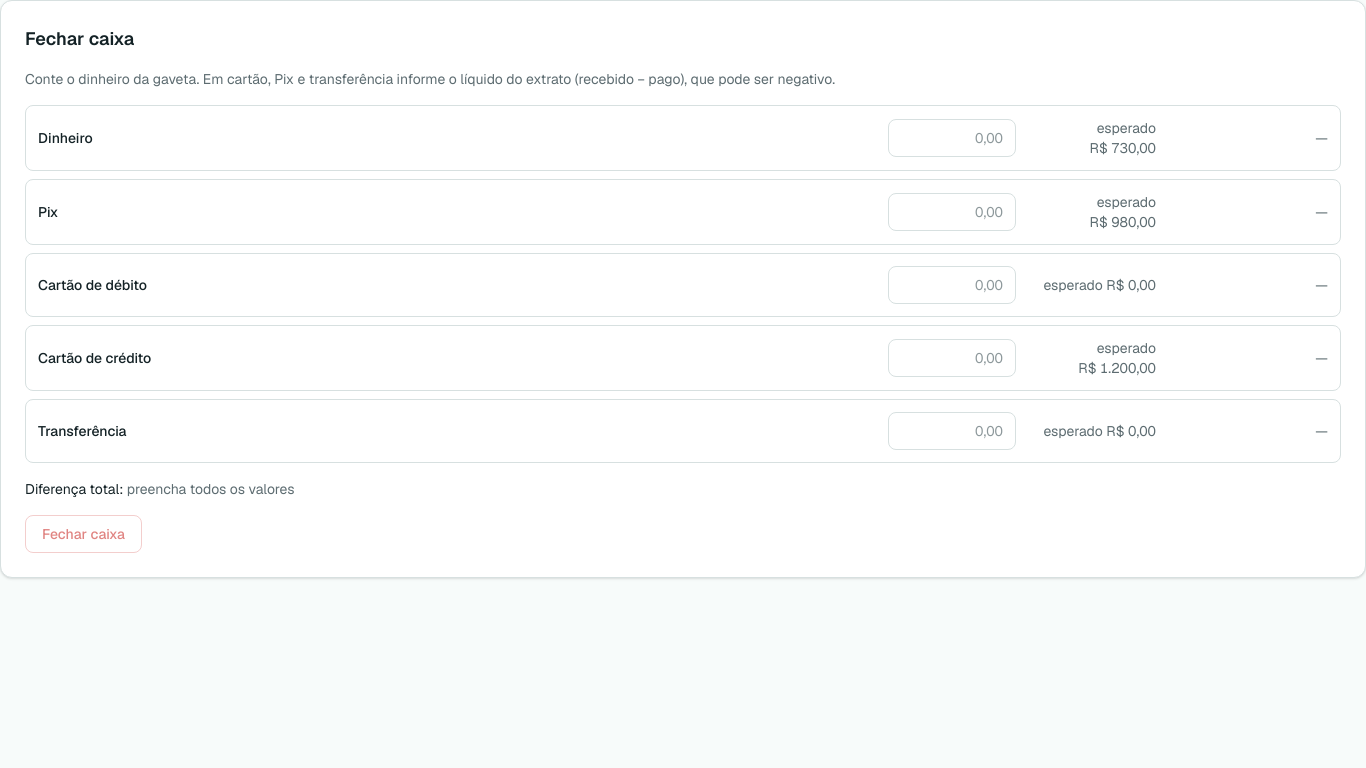
CaixaFechamento › só habilita o fechamento com todos os valores contados
This screenshot has width=1366, height=768.
Check: the button "Fechar caixa" is disabled, box top-left (25, 515), bottom-right (142, 553)
Type "730" into the field labelled "Dinheiro" at (952, 138), box top-left (888, 119), bottom-right (1016, 157)
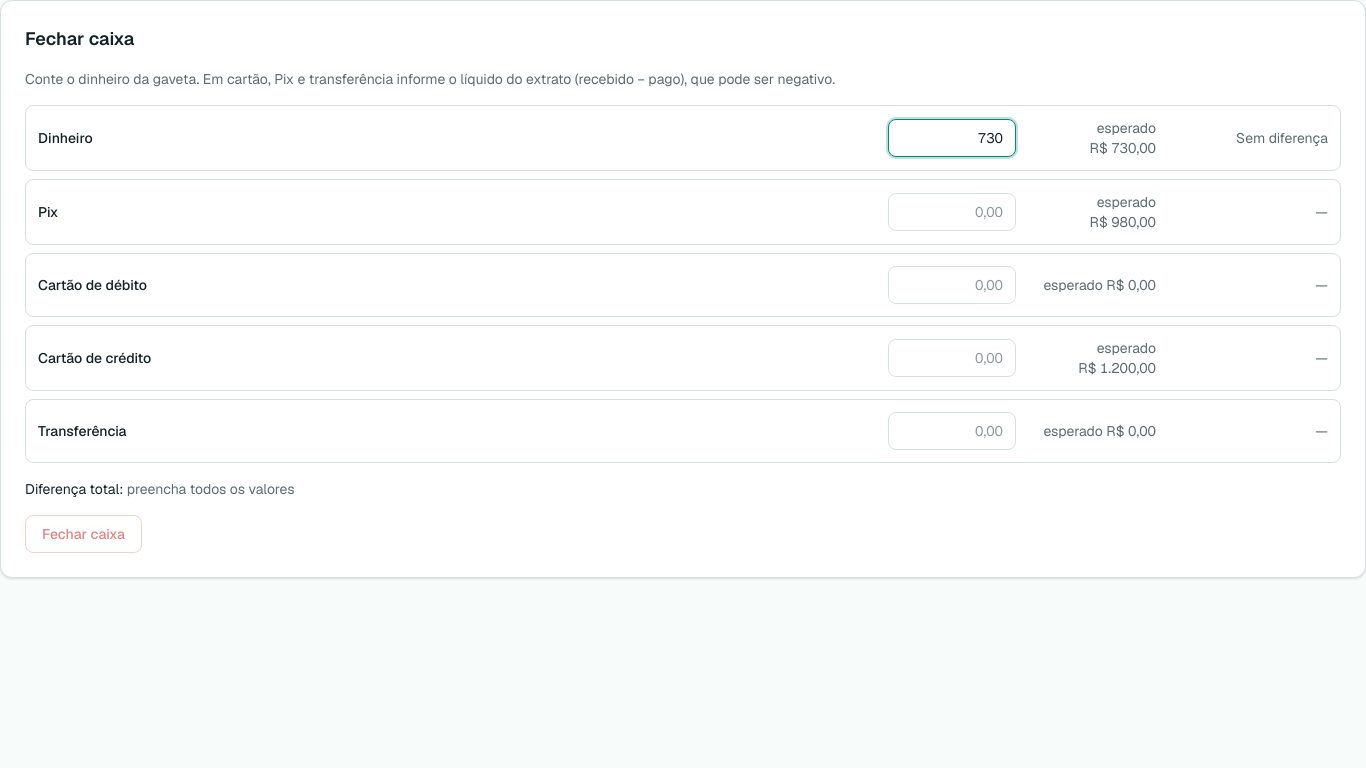
Type "1200" into the field labelled "Cartão de crédito" at (952, 358), box top-left (888, 339), bottom-right (1016, 377)
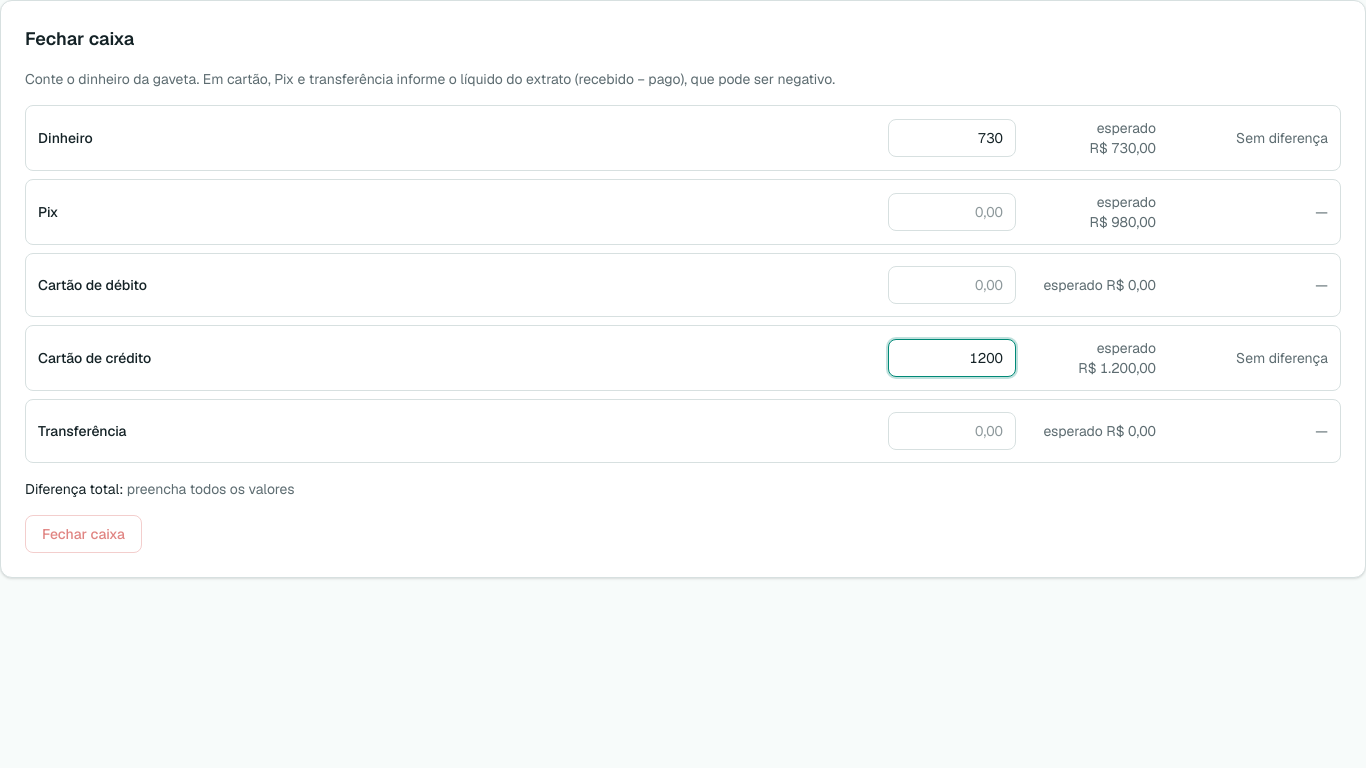
Type "0" into the field labelled "Cartão de débito" at (952, 285), box top-left (888, 266), bottom-right (1016, 304)
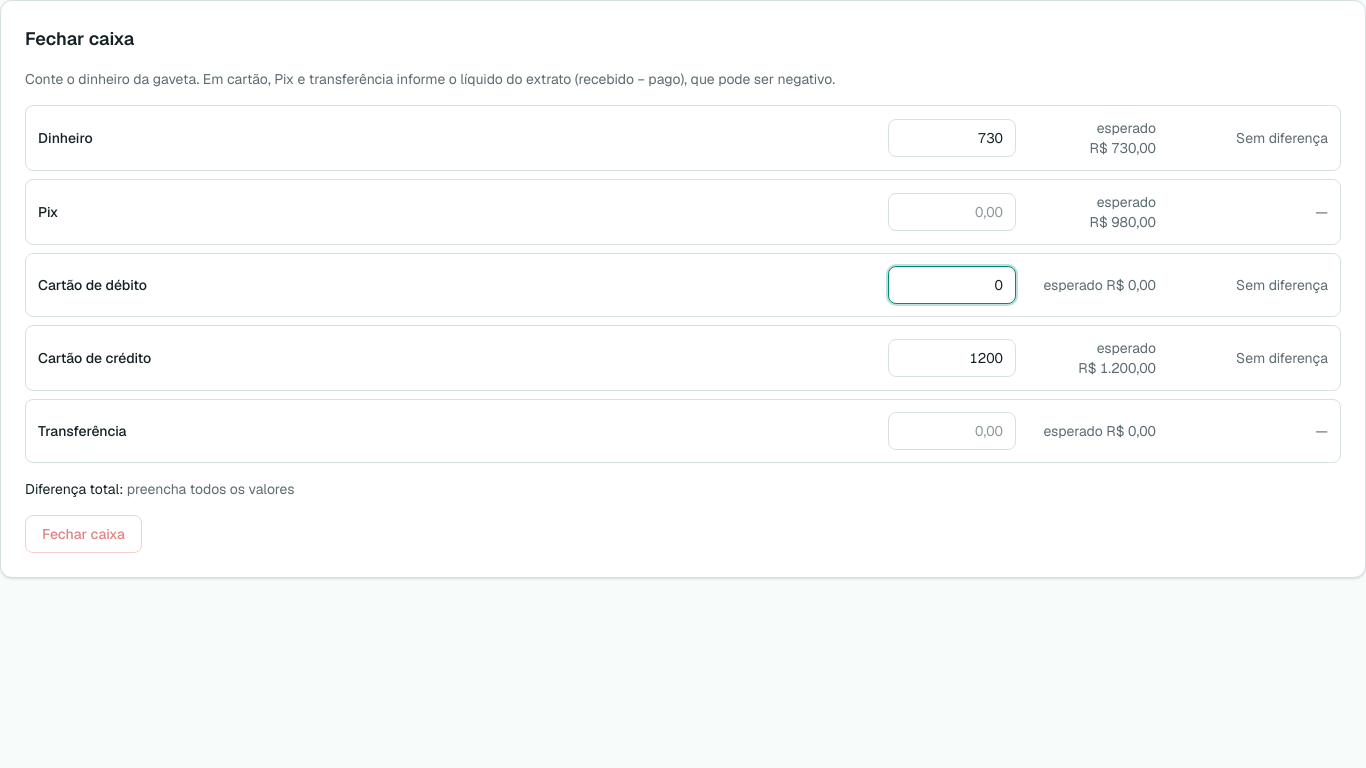
Type "980" into the field labelled "Pix" at (952, 212), box top-left (888, 193), bottom-right (1016, 231)
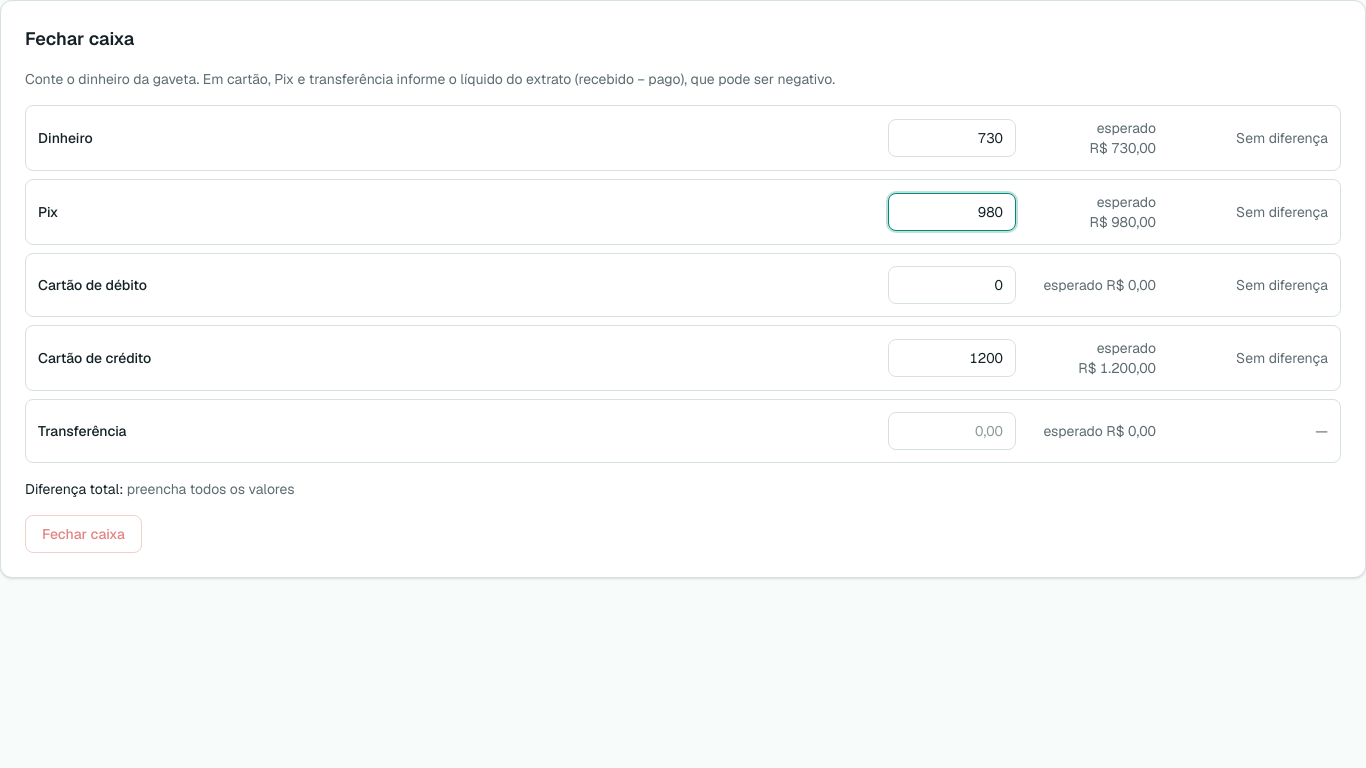
Type "0" into the field labelled "Transferência" at (952, 431), box top-left (888, 412), bottom-right (1016, 450)
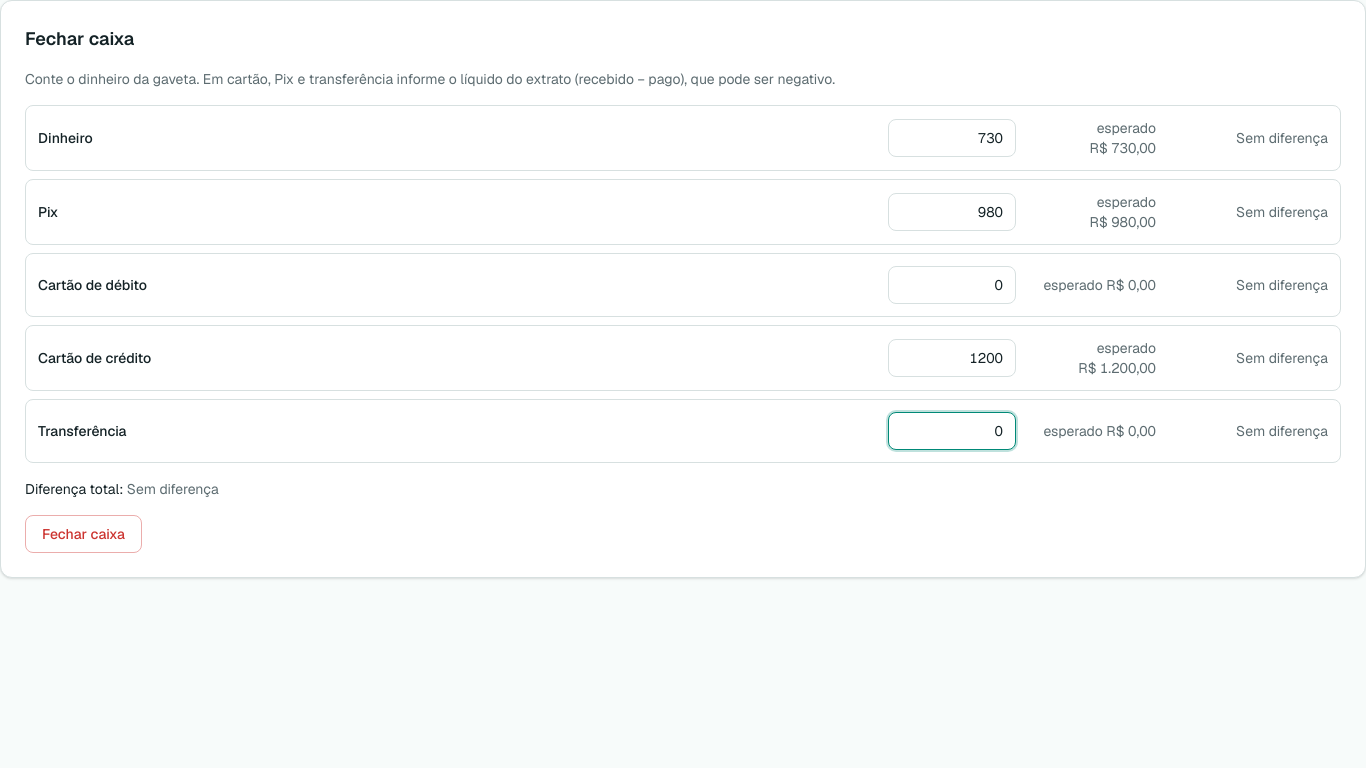
Check: the button "Fechar caixa" is enabled, box top-left (25, 515), bottom-right (142, 553)
Check: the element with test id "diferenca-total" shows "Sem diferença", box top-left (127, 480), bottom-right (219, 498)
